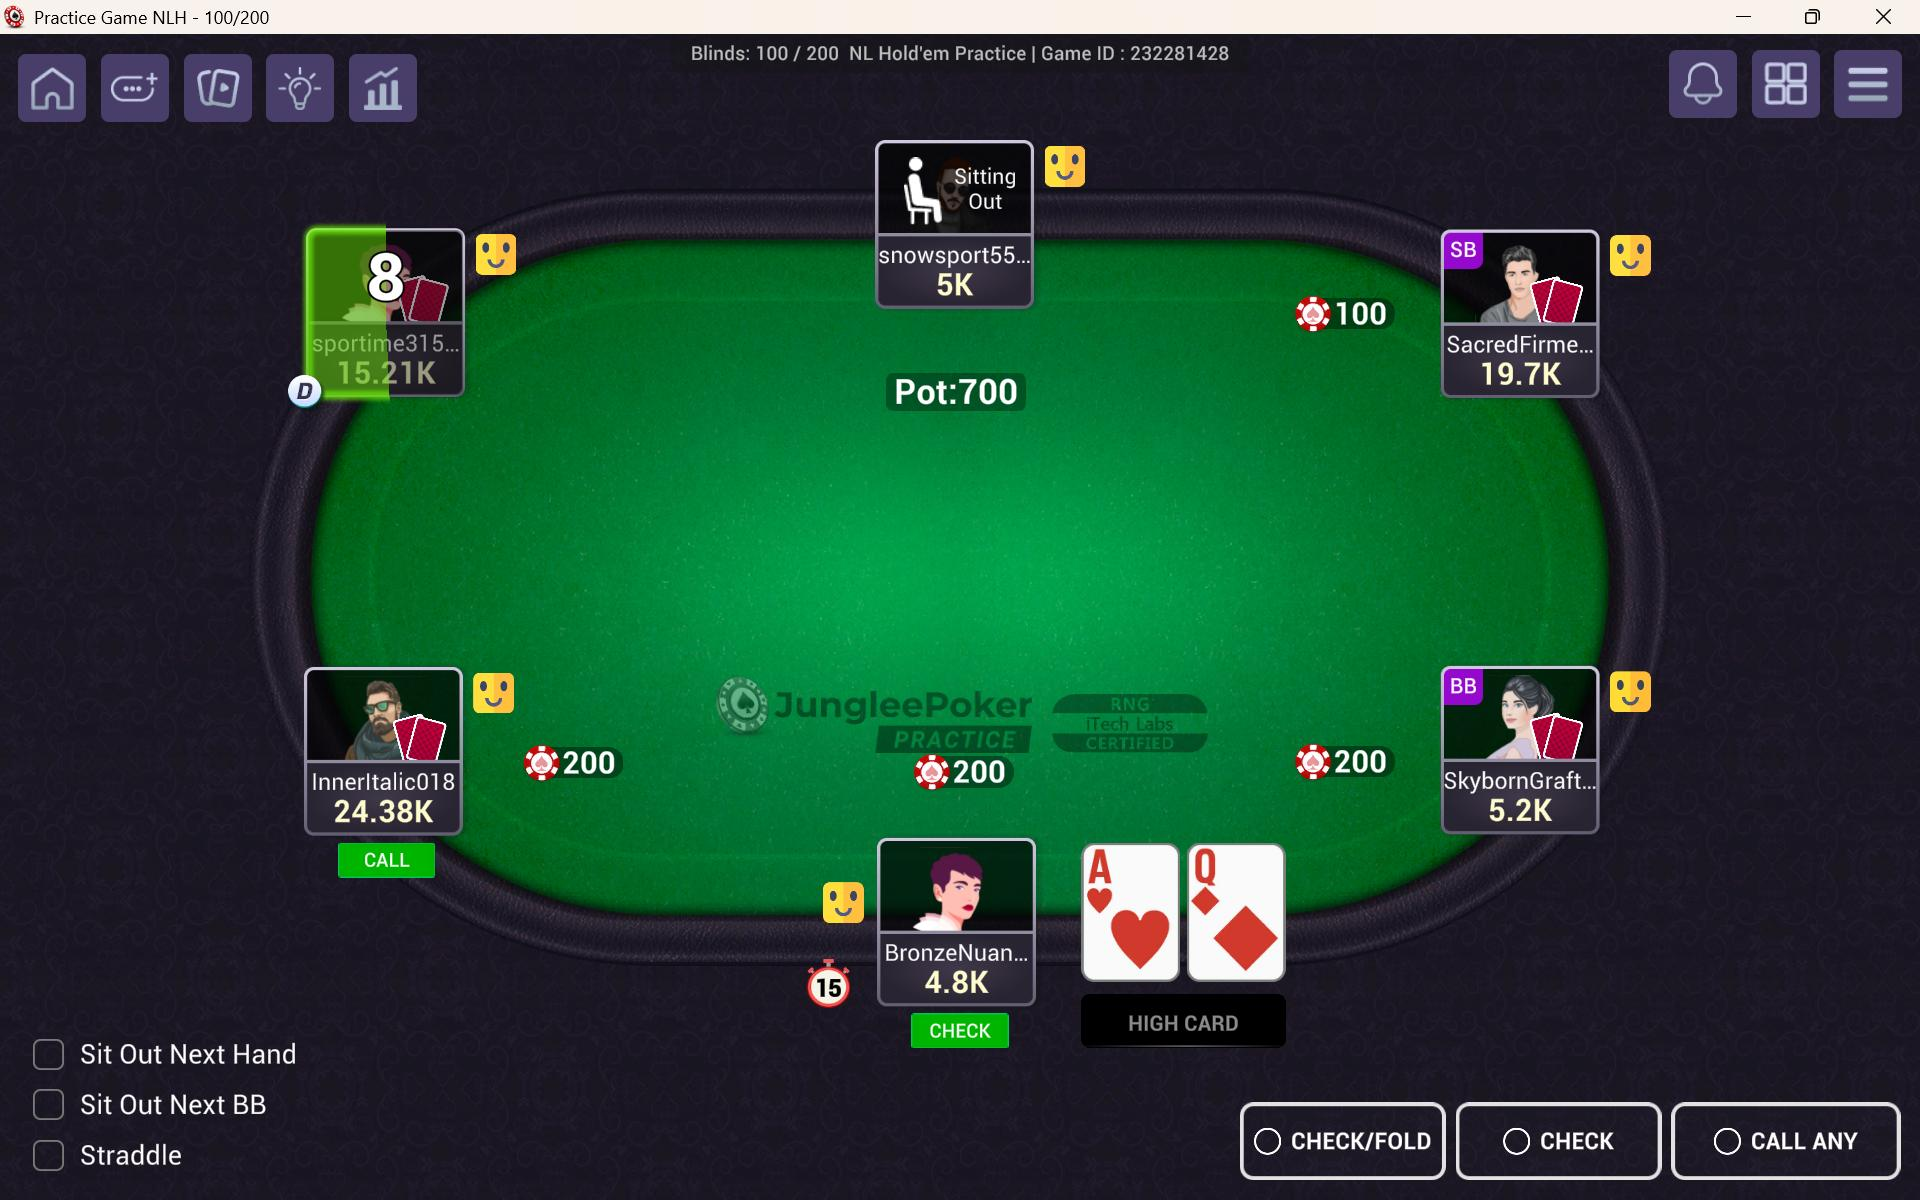card1_rank: (1080, 842, 1135, 890)
card1_suite_heart: (1098, 888, 1180, 980)
card2_rank: (1187, 842, 1245, 888)
card2_suite_diamond: (1205, 897, 1280, 977)
my_bet: (910, 748, 1012, 795)
my_stack: (881, 962, 1030, 1002)
position_BB: (1438, 671, 1497, 711)
position_SB: (1450, 235, 1487, 267)
total_pot: (885, 377, 1035, 418)
villian1_bet: (525, 737, 625, 789)
villian1_name: (300, 765, 464, 798)
villian1_stack: (315, 792, 452, 835)
villian2_name: (310, 328, 458, 358)
villian2_stack: (318, 355, 458, 400)
villian3_name: (881, 229, 1030, 265)
villian3_stack: (903, 257, 992, 303)
villian4_bet: (1283, 288, 1395, 335)
villian4_name: (1444, 325, 1592, 355)
villian4_stack: (1460, 350, 1574, 395)
villian5_bet: (1287, 733, 1404, 785)
villian5_name: (1432, 752, 1598, 800)
villian5_stack: (1468, 789, 1570, 828)
